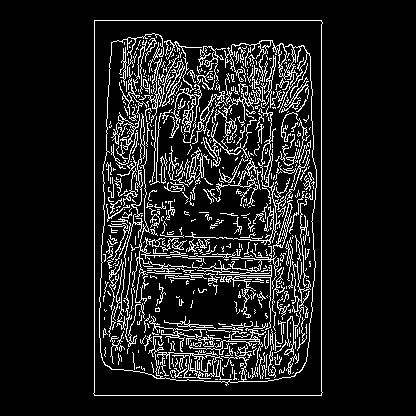buddha-sleeping: (135, 198, 207, 281)
